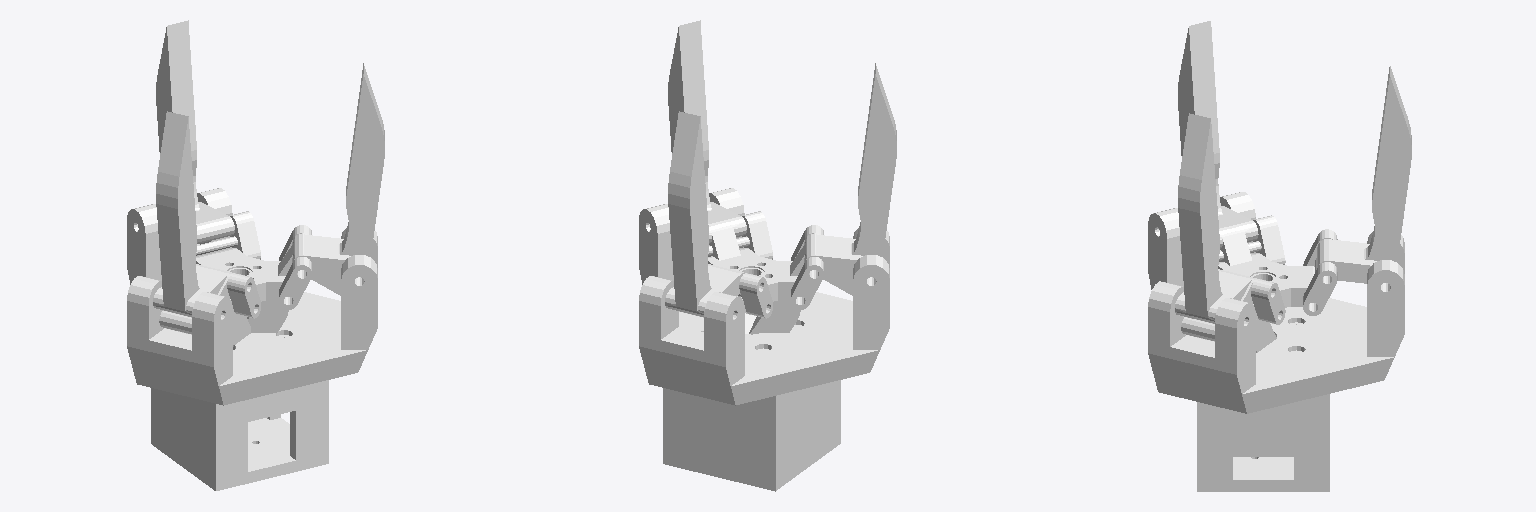
The robot description file, URDF, robot "threefingerv8":
<?xml version="1.0" encoding="utf-8"?>
<!-- This URDF was automatically created by SolidWorks to URDF Exporter! Originally created by [author] ([email redacted]) 
     Commit Version: 1.6.0-4-g7f85cfe  Build Version: 1.6.7995.38578
     For more information, please see http://wiki.ros.org/sw_urdf_exporter -->
<robot
  name="threefingerv8">
  <link
    name="base_link">
    <inertial>
      <origin
        xyz="-0.000178369551553661 0.00149077290750217 -0.000359711928960869"
        rpy="0 0 0" />
      <mass
        value="0.158098732405424" />
      <inertia
        ixx="0.000153851216242209"
        ixy="-1.14272913956443E-06"
        ixz="1.10735125502593E-08"
        iyy="0.000217118434161234"
        iyz="-1.96328376479071E-06"
        izz="0.000154504336827899" />
    </inertial>
    <visual>
      <origin
        xyz="0 0 0"
        rpy="0 0 0" />
      <geometry>
        <mesh
          filename="package://threefingerv8/meshes/base_link.STL" />
      </geometry>
      <material
        name="">
        <color
          rgba="1 1 1 1" />
      </material>
    </visual>
    <collision>
      <origin
        xyz="0 0 0"
        rpy="0 0 0" />
      <geometry>
        <mesh
          filename="package://threefingerv8/meshes/base_link.STL" />
      </geometry>
    </collision>
  </link>
  <link
    name="move_link">
    <inertial>
      <origin
        xyz="2.12982875964774E-17 0.00680756785766646 -1.40497362985593E-17"
        rpy="0 0 0" />
      <mass
        value="0.0085021271877303" />
      <inertia
        ixx="9.76418874057011E-07"
        ixy="5.21940490933867E-23"
        ixz="2.76643146367182E-21"
        iyy="1.86965817859979E-06"
        iyz="-2.18801958274866E-23"
        izz="9.76418874057014E-07" />
    </inertial>
    <visual>
      <origin
        xyz="0 0 0"
        rpy="0 0 0" />
      <geometry>
        <mesh
          filename="package://threefingerv8/meshes/move_link.STL" />
      </geometry>
      <material
        name="">
        <color
          rgba="1 1 1 1" />
      </material>
    </visual>
    <collision>
      <origin
        xyz="0 0 0"
        rpy="0 0 0" />
      <geometry>
        <mesh
          filename="package://threefingerv8/meshes/move_link.STL" />
      </geometry>
    </collision>
  </link>
  <joint
    name="move_joint"
    type="prismatic">
    <origin
      xyz="0 0 0.024087"
      rpy="1.5708 0 0" />
    <parent
      link="base_link" />
    <child
      link="move_link" />
    <axis
      xyz="0 1 0" />
    <limit
      lower="-0.5"
      upper="0.5"
      effort="5000"
      velocity="2" />
  </joint>
  <link
    name="11_link">
    <inertial>
      <origin
        xyz="-0.00649999999998663 -1.10866177349678E-14 0.015"
        rpy="0 0 0" />
      <mass
        value="0.0023425840131754" />
      <inertia
        ixx="4.99013749037845E-07"
        ixy="0"
        ixz="-4.5306118998929E-24"
        iyy="5.48312815441792E-07"
        iyz="-5.81408815034905E-23"
        izz="7.32310540795453E-08" />
    </inertial>
    <visual>
      <origin
        xyz="0 0 0"
        rpy="0 0 0" />
      <geometry>
        <mesh
          filename="package://threefingerv8/meshes/11_link.STL" />
      </geometry>
      <material
        name="">
        <color
          rgba="1 1 1 1" />
      </material>
    </visual>
    <collision>
      <origin
        xyz="0 0 0"
        rpy="0 0 0" />
      <geometry>
        <mesh
          filename="package://threefingerv8/meshes/11_link.STL" />
      </geometry>
    </collision>
  </link>
  <joint
    name="11_joint"
    type="revolute">
    <origin
      xyz="0.015 0.007 -0.0195"
      rpy="1.5708 -0.43528 -1.5708" />
    <parent
      link="move_link" />
    <child
      link="11_link" />
    <axis
      xyz="0 0 -1" />
    <limit
      lower="-1.57"
      upper="1.57"
      effort="5000"
      velocity="2" />
    <mimic
      joint="move_joint"
      multiplier="1"
      offset="0" />
  </joint>
  <link
    name="12_link">
    <inertial>
      <origin
        xyz="-0.0293208969248082 -0.00876107376234852 0.0190000001135646"
        rpy="0 0 0" />
      <mass
        value="0.0122579255984349" />
      <inertia
        ixx="9.8466089201607E-07"
        ixy="1.31799544484654E-06"
        ixz="-2.57676351638825E-14"
        iyy="7.20160465350243E-06"
        iyz="1.09652705676399E-14"
        izz="7.77283391142853E-06" />
    </inertial>
    <visual>
      <origin
        xyz="0 0 0"
        rpy="0 0 0" />
      <geometry>
        <mesh
          filename="package://threefingerv8/meshes/12_link.STL" />
      </geometry>
      <material
        name="">
        <color
          rgba="1 1 1 1" />
      </material>
    </visual>
    <collision>
      <origin
        xyz="0 0 0"
        rpy="0 0 0" />
      <geometry>
        <mesh
          filename="package://threefingerv8/meshes/12_link.STL" />
      </geometry>
    </collision>
  </link>
  <joint
    name="12_joint"
    type="revolute">
    <origin
      xyz="-0.013 0 -0.004"
      rpy="0 0 0" />
    <parent
      link="11_link" />
    <child
      link="12_link" />
    <axis
      xyz="0 0 -1" />
    <limit
      lower="-1.57"
      upper="1.57"
      effort="5000"
      velocity="2" />
    <mimic
      joint="11_joint"
      multiplier="1"
      offset="0" />
  </joint>
  <link
    name="21_link">
    <inertial>
      <origin
        xyz="0.00649999999998662 -1.10068204550728E-14 -0.019"
        rpy="0 0 0" />
      <mass
        value="0.0023425840131754" />
      <inertia
        ixx="4.99013749037845E-07"
        ixy="-8.60267837055149E-23"
        ixz="-1.05879118406788E-22"
        iyy="5.48312815441792E-07"
        iyz="-6.94831714544543E-23"
        izz="7.32310540795453E-08" />
    </inertial>
    <visual>
      <origin
        xyz="0 0 0"
        rpy="0 0 0" />
      <geometry>
        <mesh
          filename="package://threefingerv8/meshes/21_link.STL" />
      </geometry>
      <material
        name="">
        <color
          rgba="1 1 1 1" />
      </material>
    </visual>
    <collision>
      <origin
        xyz="0 0 0"
        rpy="0 0 0" />
      <geometry>
        <mesh
          filename="package://threefingerv8/meshes/21_link.STL" />
      </geometry>
    </collision>
  </link>
  <joint
    name="21_joint"
    type="revolute">
    <origin
      xyz="-0.0263874953737968 0.00700000000001386 -0.00670448267190406"
      rpy="-2.65931138123083 -0.212425490096555 1.95364858543396" />
    <parent
      link="move_link" />
    <child
      link="21_link" />
    <axis
      xyz="0 0 1" />
    <limit
      lower="-1.57"
      upper="1.57"
      effort="5000"
      velocity="2" />
    <mimic
      joint="move_joint"
      multiplier="1"
      offset="0" />
  </joint>
  <link
    name="22_link">
    <inertial>
      <origin
        xyz="0.0293216343766779 -0.00876108435080183 -0.0190000103494336"
        rpy="0 0 0" />
      <mass
        value="0.0122572499897457" />
      <inertia
        ixx="9.84650226311452E-07"
        ixy="-1.31798330895562E-06"
        ixz="-1.09743409221826E-12"
        iyy="7.20145547037363E-06"
        iyz="3.40750819919882E-13"
        izz="7.77268089083732E-06" />
    </inertial>
    <visual>
      <origin
        xyz="0 0 0"
        rpy="0 0 0" />
      <geometry>
        <mesh
          filename="package://threefingerv8/meshes/22_link.STL" />
      </geometry>
      <material
        name="">
        <color
          rgba="1 1 1 1" />
      </material>
    </visual>
    <collision>
      <origin
        xyz="0 0 0"
        rpy="0 0 0" />
      <geometry>
        <mesh
          filename="package://threefingerv8/meshes/22_link.STL" />
      </geometry>
    </collision>
  </link>
  <joint
    name="22_joint"
    type="revolute">
    <origin
      xyz="0.013 0 0"
      rpy="0 0 0" />
    <parent
      link="21_link" />
    <child
      link="22_link" />
    <axis
      xyz="0 0 1" />
    <limit
      lower="-1.57"
      upper="1.57"
      effort="5000"
      velocity="2" />
    <mimic
      joint="21_joint"
      multiplier="1"
      offset="0" />
  </joint>
  <link
    name="31_link">
    <inertial>
      <origin
        xyz="-0.00649999999998662 -1.10796788410639E-14 0.019"
        rpy="0 0 0" />
      <mass
        value="0.0023425840131754" />
      <inertia
        ixx="4.99013749037844E-07"
        ixy="4.63221143029695E-23"
        ixz="-1.40620704134015E-23"
        iyy="5.48312815441792E-07"
        iyz="1.86942818436984E-22"
        izz="7.32310540795452E-08" />
    </inertial>
    <visual>
      <origin
        xyz="0 0 0"
        rpy="0 0 0" />
      <geometry>
        <mesh
          filename="package://threefingerv8/meshes/31_link.STL" />
      </geometry>
      <material
        name="">
        <color
          rgba="1 1 1 1" />
      </material>
    </visual>
    <collision>
      <origin
        xyz="0 0 0"
        rpy="0 0 0" />
      <geometry>
        <mesh
          filename="package://threefingerv8/meshes/31_link.STL" />
      </geometry>
    </collision>
  </link>
  <joint
    name="31_joint"
    type="revolute">
    <origin
      xyz="0.00738749537379796 0.00700000000001319 0.0262044826719049"
      rpy="-2.65931138123085 0.212425490096565 -1.95364858543399" />
    <parent
      link="move_link" />
    <child
      link="31_link" />
    <axis
      xyz="0 0 -1" />
    <limit
      lower="-1.57"
      upper="1.57"
      effort="5000"
      velocity="2" />
    <mimic
      joint="move_joint"
      multiplier="1"
      offset="0" />
  </joint>
  <link
    name="32_link">
    <inertial>
      <origin
        xyz="0.0293216345242489 -0.0087610842961356 -0.0189999898761313"
        rpy="0 0 0" />
      <mass
        value="0.0122572498826078" />
      <inertia
        ixx="9.84650224489367E-07"
        ixy="-1.31798329819406E-06"
        ixz="1.04568287386481E-12"
        iyy="7.20145543798657E-06"
        iyz="-3.61695921990803E-13"
        izz="7.77268085824628E-06" />
    </inertial>
    <visual>
      <origin
        xyz="0 0 0"
        rpy="0 0 0" />
      <geometry>
        <mesh
          filename="package://threefingerv8/meshes/32_link.STL" />
      </geometry>
      <material
        name="">
        <color
          rgba="1 1 1 1" />
      </material>
    </visual>
    <collision>
      <origin
        xyz="0 0 0"
        rpy="0 0 0" />
      <geometry>
        <mesh
          filename="package://threefingerv8/meshes/32_link.STL" />
      </geometry>
    </collision>
  </link>
  <joint
    name="32_joint"
    type="revolute">
    <origin
      xyz="-0.013 0 0"
      rpy="3.14159265358979 0 3.14159265358979" />
    <parent
      link="31_link" />
    <child
      link="32_link" />
    <axis
      xyz="0 0 1" />
    <limit
      lower="-1.57"
      upper="1.57"
      effort="5000"
      velocity="2" />
    <mimic
      joint="31_joint"
      multiplier="1"
      offset="0" />
  </joint>
  <link
    name="12_link2">
    <inertial>
      <origin
        xyz="-0.0293208969248082 -0.00876107376234853 0.0190000001135646"
        rpy="0 0 0" />
      <mass
        value="0.0122579255984349" />
      <inertia
        ixx="9.8466089201607E-07"
        ixy="1.31799544484654E-06"
        ixz="-2.57676351638825E-14"
        iyy="7.20160465350243E-06"
        iyz="1.09652705676399E-14"
        izz="7.77283391142853E-06" />
    </inertial>
    <visual>
      <origin
        xyz="0 0 0"
        rpy="0 0 0" />
      <geometry>
        <mesh
          filename="package://threefingerv8/meshes/12_link2.STL" />
      </geometry>
      <material
        name="">
        <color
          rgba="1 1 1 1" />
      </material>
    </visual>
    <collision>
      <origin
        xyz="0 0 0"
        rpy="0 0 0" />
      <geometry>
        <mesh
          filename="package://threefingerv8/meshes/12_link2.STL" />
      </geometry>
    </collision>
  </link>
  <joint
    name="12_joint2"
    type="revolute">
    <origin
      xyz="0.019 0.024982 0.042875"
      rpy="1.5708 1.1355 -1.5708" />
    <parent
      link="base_link" />
    <child
      link="12_link2" />
    <axis
      xyz="0 0 1" />
    <limit
      lower="-1.57"
      upper="1.57"
      effort="5000"
      velocity="2" />
  </joint>
  <link
    name="22_link2">
    <inertial>
      <origin
        xyz="0.0293216343766779 -0.00876108435080183 -0.0190000103494336"
        rpy="0 0 0" />
      <mass
        value="0.0122572499897457" />
      <inertia
        ixx="9.84650226311452E-07"
        ixy="-1.31798330895562E-06"
        ixz="-1.09743409248296E-12"
        iyy="7.20145547037363E-06"
        iyz="3.40750820555156E-13"
        izz="7.77268089083732E-06" />
    </inertial>
    <visual>
      <origin
        xyz="0 0 0"
        rpy="0 0 0" />
      <geometry>
        <mesh
          filename="package://threefingerv8/meshes/22_link2.STL" />
      </geometry>
      <material
        name="">
        <color
          rgba="1 1 1 1" />
      </material>
    </visual>
    <collision>
      <origin
        xyz="0 0 0"
        rpy="0 0 0" />
      <geometry>
        <mesh
          filename="package://threefingerv8/meshes/22_link2.STL" />
      </geometry>
    </collision>
  </link>
  <joint
    name="22_joint2"
    type="revolute">
    <origin
      xyz="-0.031135 0.0039637 0.042875"
      rpy="1.5708 -1.1355 -2.618" />
    <parent
      link="base_link" />
    <child
      link="22_link2" />
    <axis
      xyz="0 0 -1" />
    <limit
      lower="-1.57"
      upper="1.57"
      effort="5000"
      velocity="2" />
  </joint>
  <link
    name="32_link2">
    <inertial>
      <origin
        xyz="0.0293216345242489 -0.00876108429613561 -0.0189999898761313"
        rpy="0 0 0" />
      <mass
        value="0.0122572498826078" />
      <inertia
        ixx="9.84650224489367E-07"
        ixy="-1.31798329819406E-06"
        ixz="1.04568287386481E-12"
        iyy="7.20145543798657E-06"
        iyz="-3.61695921990803E-13"
        izz="7.77268085824628E-06" />
    </inertial>
    <visual>
      <origin
        xyz="0 0 0"
        rpy="0 0 0" />
      <geometry>
        <mesh
          filename="package://threefingerv8/meshes/32_link2.STL" />
      </geometry>
      <material
        name="">
        <color
          rgba="1 1 1 1" />
      </material>
    </visual>
    <collision>
      <origin
        xyz="0 0 0"
        rpy="0 0 0" />
      <geometry>
        <mesh
          filename="package://threefingerv8/meshes/32_link2.STL" />
      </geometry>
    </collision>
  </link>
  <joint
    name="32_joint2"
    type="revolute">
    <origin
      xyz="0.012135 -0.028945 0.042875"
      rpy="1.5708 -1.1355 -0.5236" />
    <parent
      link="base_link" />
    <child
      link="32_link2" />
    <axis
      xyz="0 0 -1" />
    <limit
      lower="-1.57"
      upper="1.57"
      effort="5000"
      velocity="2" />
  </joint>
</robot>

--- What the picture shows (computed from the rendered views, not written in the file) ---
3 views of the same robot in one strip: view 1: azimuth 30°, elevation 25°; view 2: azimuth 150°, elevation 25°; view 3: azimuth 270°, elevation 25° (orthographic).
Model threefingerv8 with 11 links and 10 joints (9 revolute, 1 prismatic), rooted at base_link, posed every joint at zero.
Visible links, largest first — view 1: base_link, 22_link, 32_link, 12_link2, move_link, 32_link2, 31_link, 11_link, 21_link, 22_link2; view 2: base_link, 12_link2, 22_link, 32_link, move_link, 22_link2, 21_link, 32_link2, 11_link, 31_link; view 3: base_link, 32_link, 12_link2, 22_link, move_link, 11_link, 32_link2, 31_link, 21_link, 22_link2.
Boxes of the visible links, x1=… form: base_link: x1=127, y1=188, x2=377, y2=490; 22_link: x1=153, y1=111, x2=231, y2=317; 32_link: x1=292, y1=63, x2=384, y2=277; 12_link2: x1=156, y1=20, x2=234, y2=243; move_link: x1=196, y1=248, x2=285, y2=313; 32_link2: x1=247, y1=233, x2=340, y2=333; 31_link: x1=279, y1=225, x2=311, y2=309; 11_link: x1=196, y1=211, x2=260, y2=259; 21_link: x1=227, y1=273, x2=260, y2=318; 22_link2: x1=159, y1=265, x2=267, y2=418; base_link: x1=639, y1=188, x2=889, y2=491; 12_link2: x1=665, y1=111, x2=744, y2=317; 22_link: x1=804, y1=63, x2=896, y2=277; 32_link: x1=668, y1=20, x2=746, y2=243; move_link: x1=708, y1=248, x2=797, y2=313; 22_link2: x1=749, y1=233, x2=852, y2=334; 21_link: x1=791, y1=225, x2=823, y2=309; 32_link2: x1=708, y1=217, x2=756, y2=333; 11_link: x1=738, y1=273, x2=772, y2=318; 31_link: x1=708, y1=211, x2=772, y2=259; base_link: x1=1148, y1=192, x2=1404, y2=491; 32_link: x1=1175, y1=113, x2=1252, y2=323; 12_link2: x1=1317, y1=66, x2=1411, y2=283; 22_link: x1=1178, y1=21, x2=1258, y2=248; move_link: x1=1218, y1=253, x2=1314, y2=319; 11_link: x1=1303, y1=229, x2=1337, y2=315; 32_link2: x1=1181, y1=270, x2=1276, y2=352; 31_link: x1=1251, y1=279, x2=1285, y2=324; 21_link: x1=1219, y1=215, x2=1285, y2=264; 22_link2: x1=1219, y1=221, x2=1255, y2=265.
Size in the robot's own frame: 0.1158 by 0.103 by 0.1695 metres.
10 mesh visuals loaded from 11 distinct referenced files (10 binary STL); not drawn: 1 (reference not matched to a file when rendering).